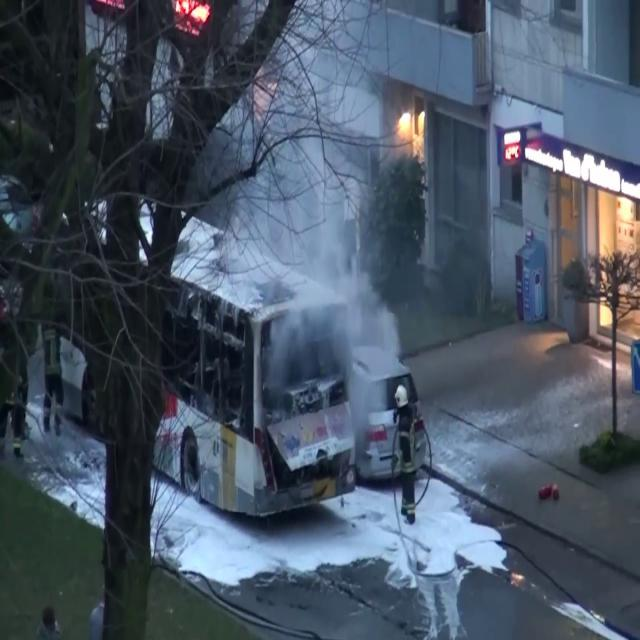Smoke: (238, 29, 404, 438)
